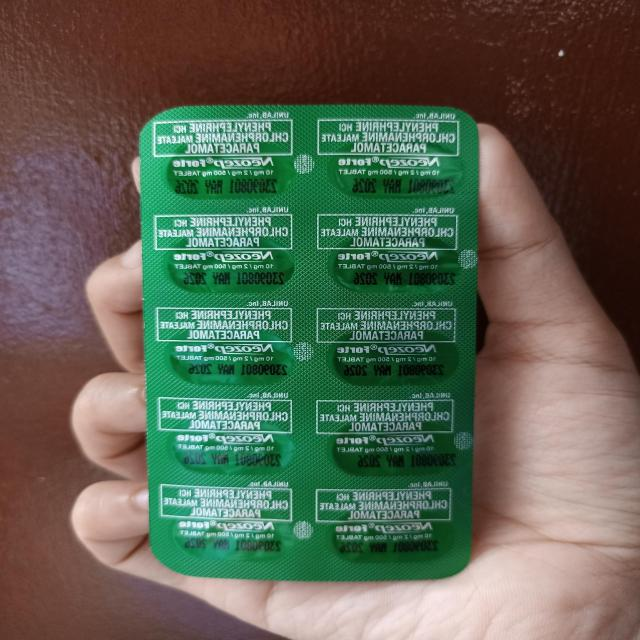Neozep_Strip: (135, 96, 489, 587)
